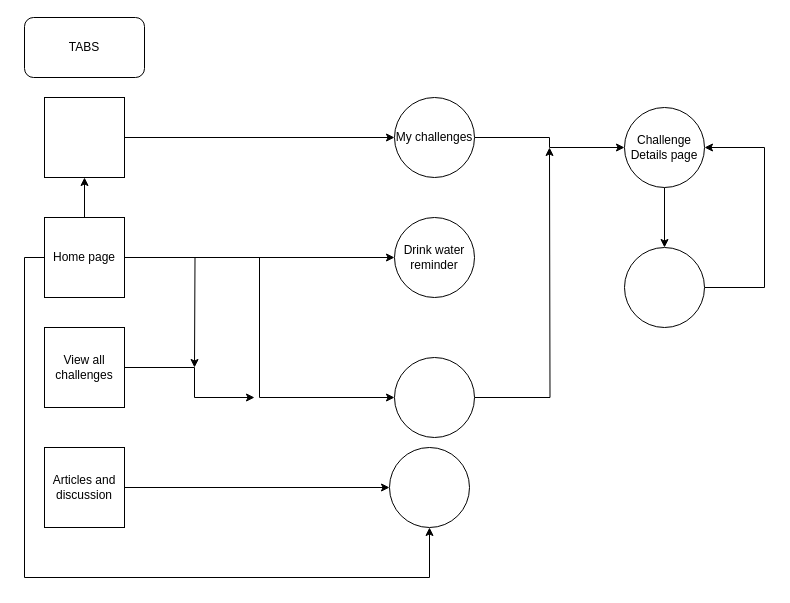
Image size: 790x603. Some labels were removed from this diagram. The shapes that lost their labels are listed below. From the top down, each one's centre as x and y in pixels, then its label:
point (84, 137): Login
point (664, 287): Completion page
point (434, 397): View challenges page
point (429, 487): Blog page
